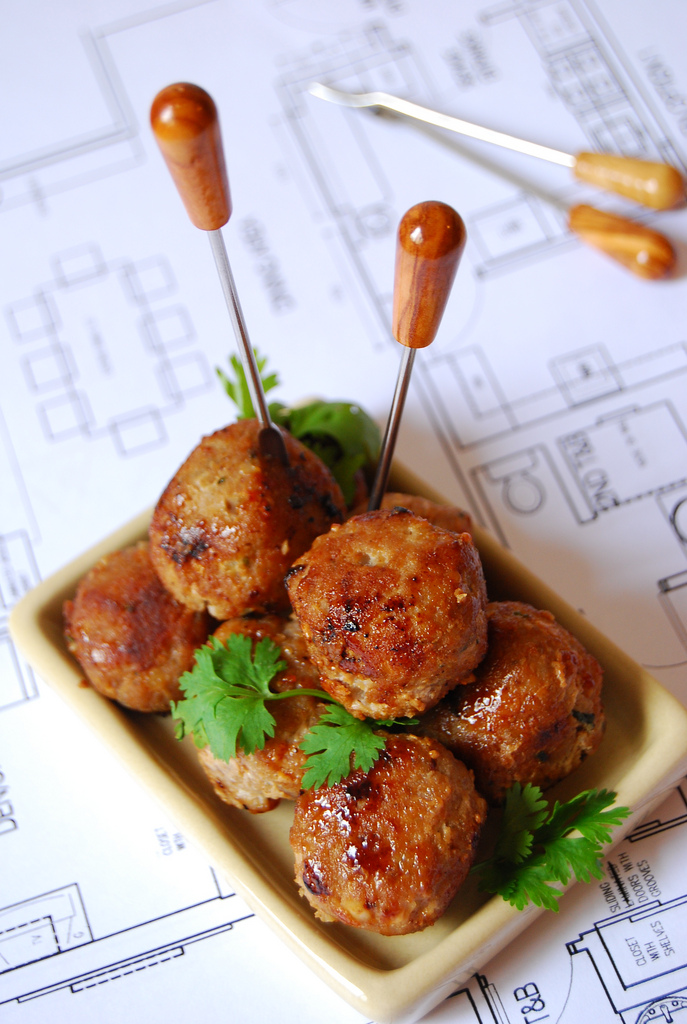meatballs: (416, 612, 635, 787), (293, 513, 488, 696), (291, 738, 470, 921), (188, 613, 346, 795), (59, 545, 251, 687), (160, 437, 335, 588)
